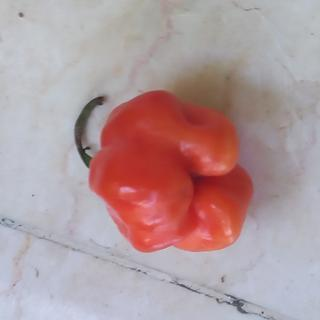Grade-B: (84, 85, 255, 257)
